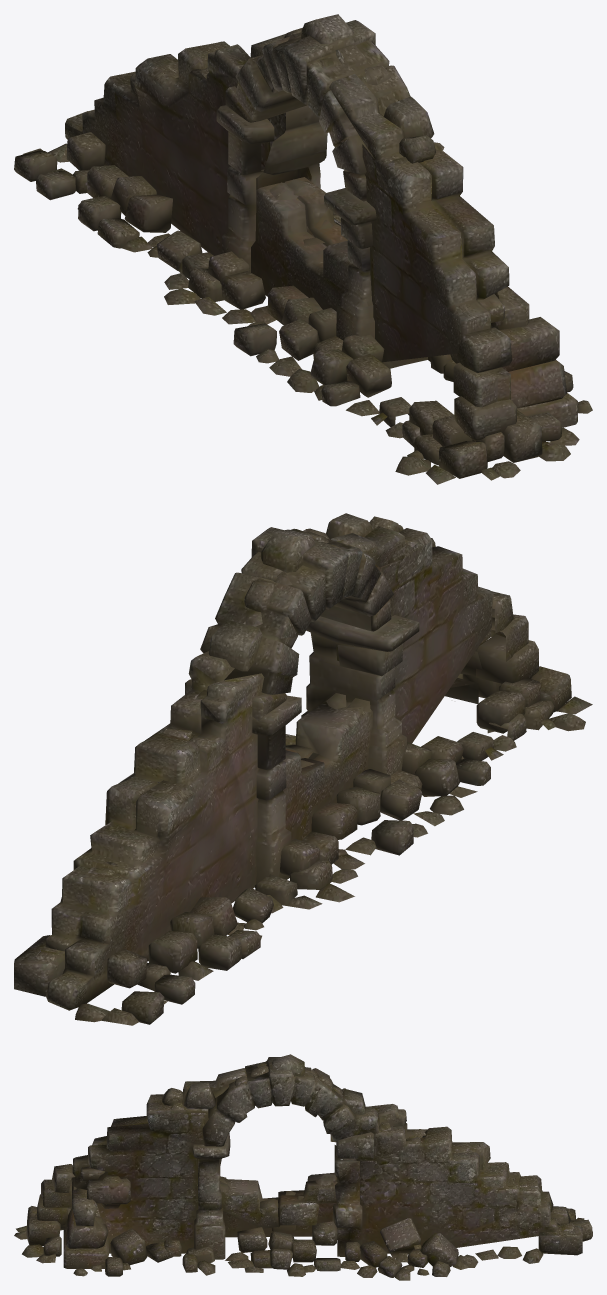
The model's file is ruin.glb.
The picture shows the model from 3 angles, top to bottom: view 1: azimuth 30°, elevation 25°; view 2: azimuth 150°, elevation 25°; view 3: azimuth 270°, elevation 25°; orthographic projection. The views are drawn at different scales.
Visible parts, largest first — view 1: tripo_node_f379f8de-2737-487a-92fc-aefac2aab9d2; view 2: tripo_node_f379f8de-2737-487a-92fc-aefac2aab9d2; view 3: tripo_node_f379f8de-2737-487a-92fc-aefac2aab9d2.
Boxes of the visible parts, left/top/right/bottom form: tripo_node_f379f8de-2737-487a-92fc-aefac2aab9d2: left=14, top=14, right=592, bottom=484; tripo_node_f379f8de-2737-487a-92fc-aefac2aab9d2: left=14, top=513, right=592, bottom=1025; tripo_node_f379f8de-2737-487a-92fc-aefac2aab9d2: left=14, top=1054, right=592, bottom=1280.
Size of the model in its own units: 0.2905 by 0.3667 by 0.9995.
1 material, 1 textured.
